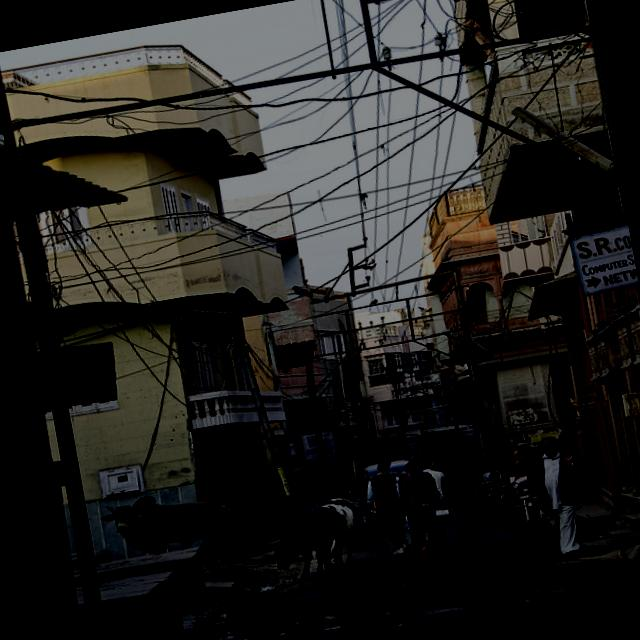Vehicle: (502, 476, 550, 542), (472, 470, 510, 508), (432, 496, 462, 540), (357, 457, 411, 478), (332, 484, 352, 502)
